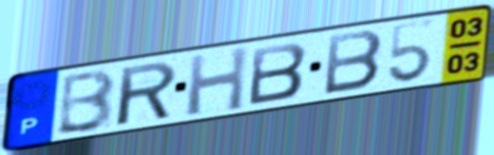5: (385, 15, 443, 85)
B: (321, 27, 386, 97), (53, 67, 118, 137), (246, 40, 310, 107)
H: (183, 44, 250, 118)
R: (116, 59, 180, 129)
